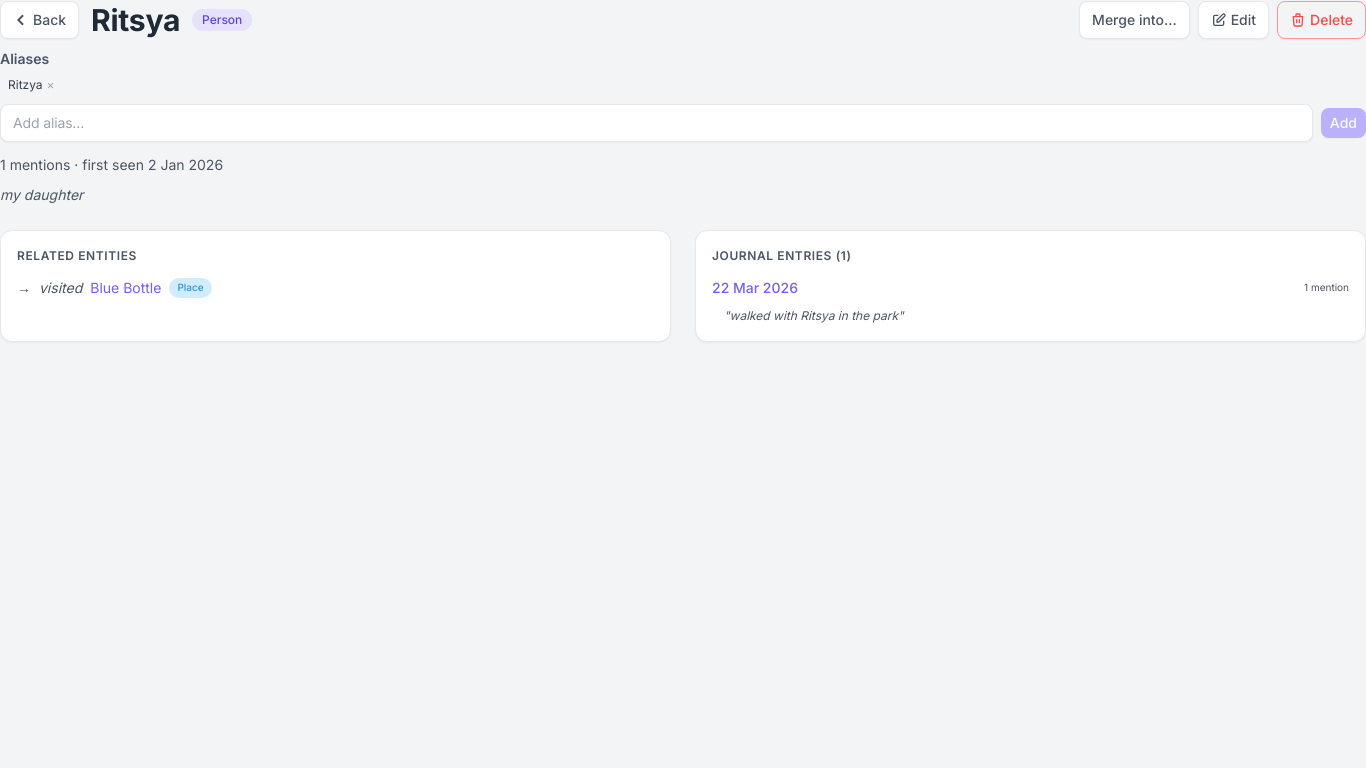
Scenario: EntityDetailView › alias editing › opens the collision dialog with the existing entity context on a 409
In the field with test id "entity-alias-input": (656, 123) [0,104,1313,142], type "Mum"
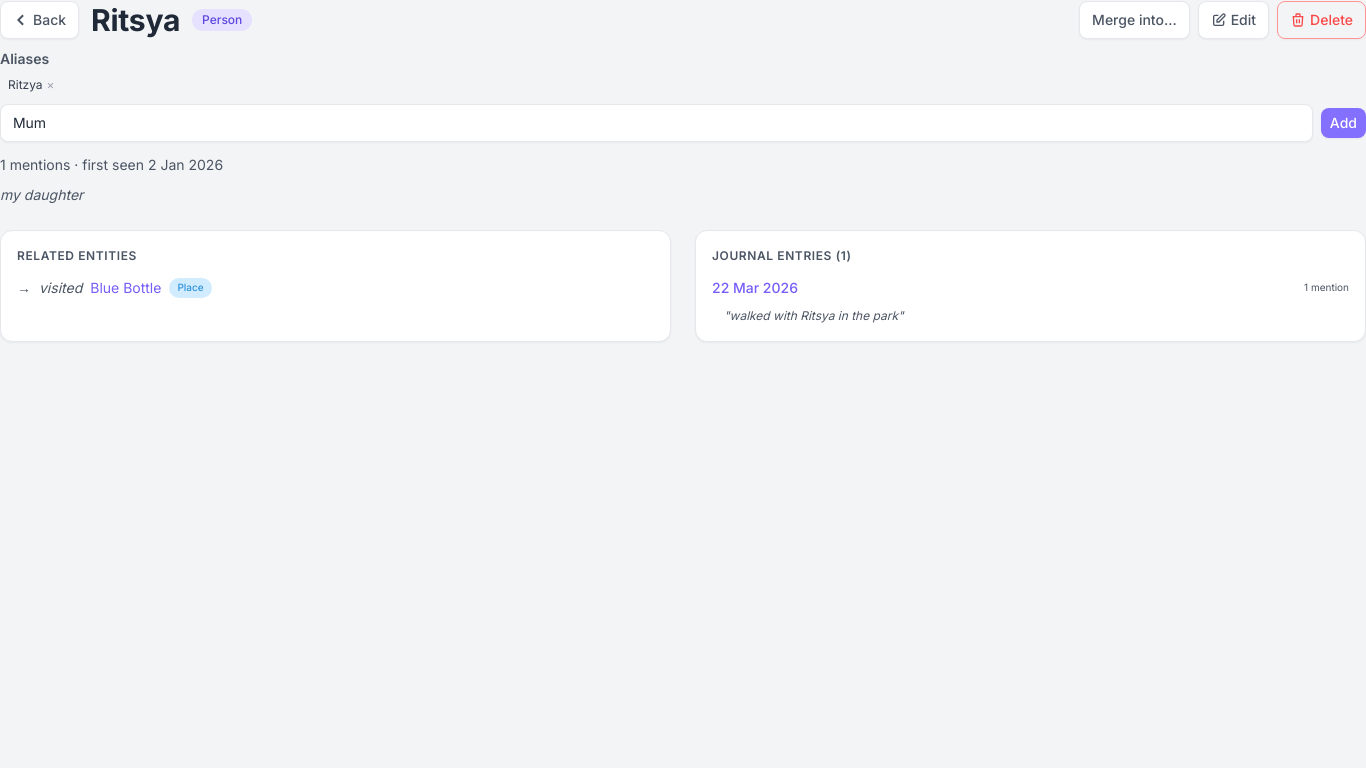
Submit the form with test id "entity-alias-form", box [0,104,1365,142]
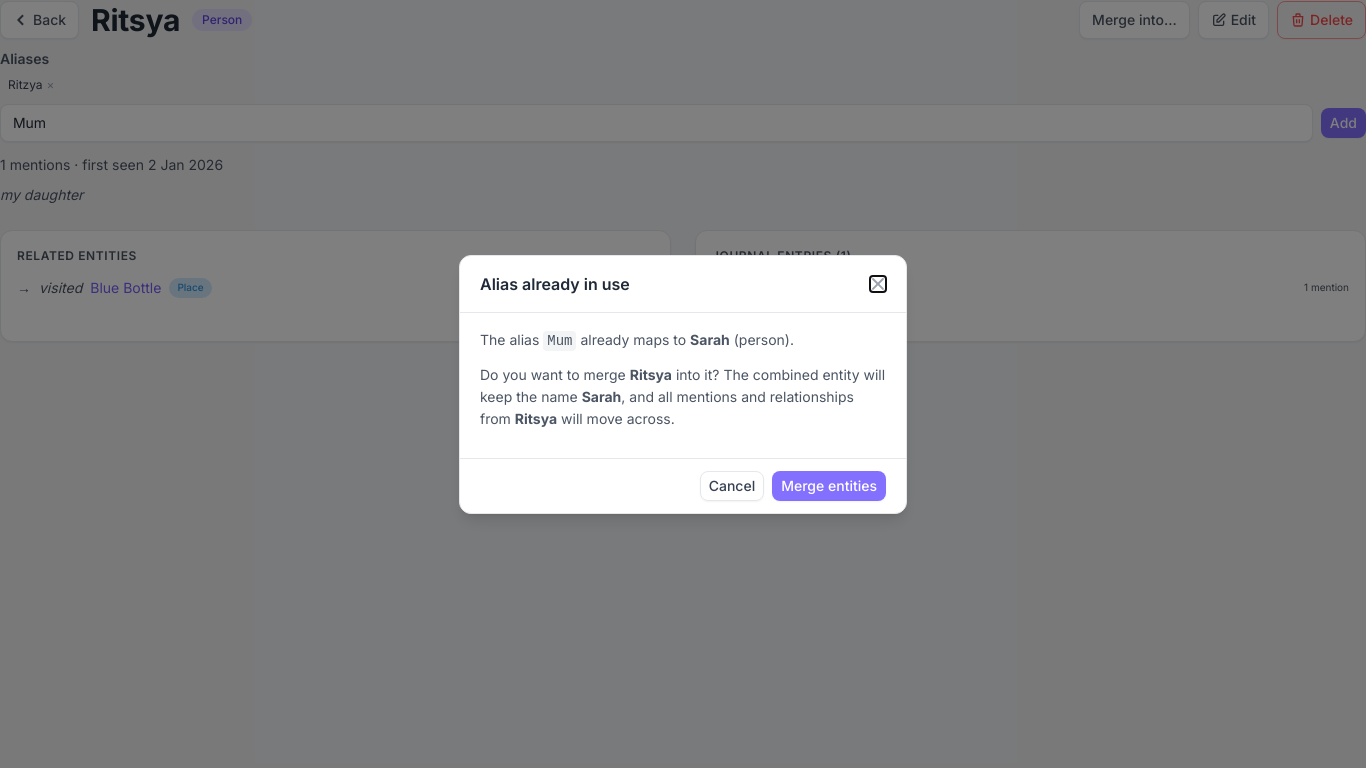
Now the element with test id "alias-collision-dialog" is shown, box [480,328,886,430]
Now the element with test id "alias-collision-dialog" shows "Sarah", box [690,330,730,348]
